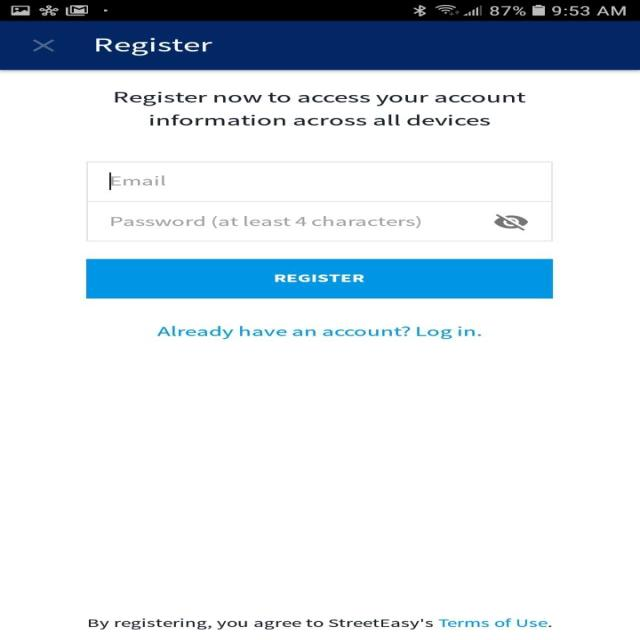EditText: (86, 161, 552, 202), (86, 201, 552, 242)
Icon: (493, 214, 528, 231), (32, 39, 55, 52)
Text: (113, 92, 526, 126), (88, 617, 550, 629), (156, 325, 481, 339), (110, 216, 420, 228), (95, 37, 213, 56), (111, 175, 166, 185)
TextButton: (85, 258, 552, 298)
